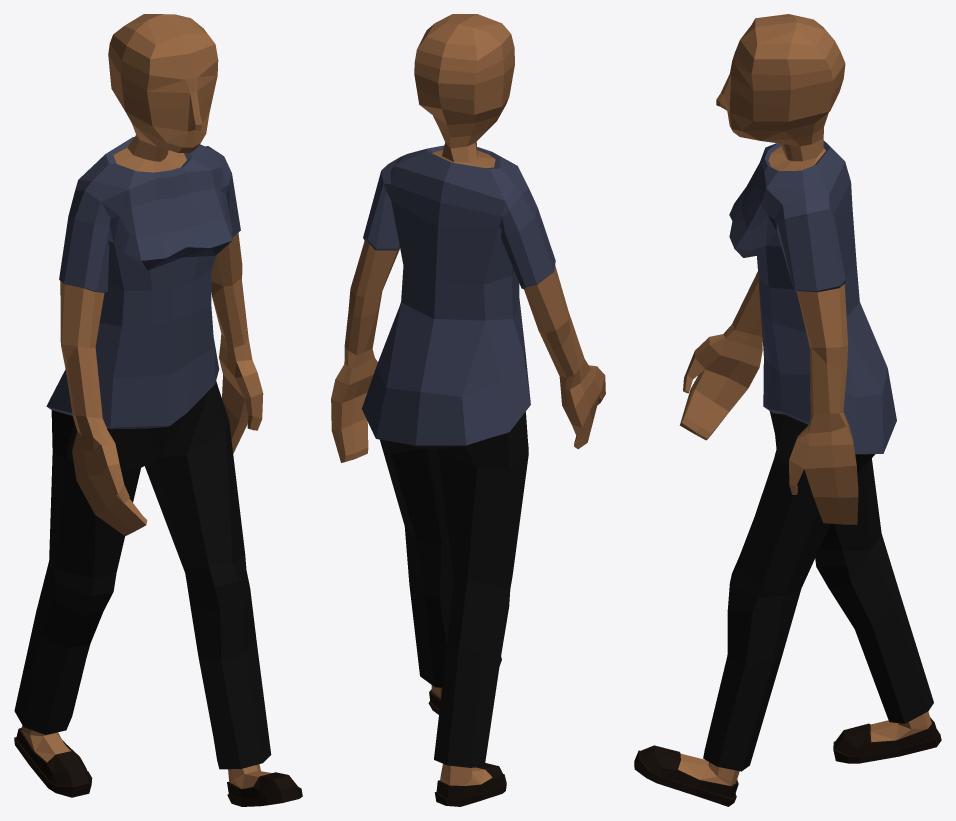
The model's file is Female_Walking.obj.
3 views of the same model, side by side, from view 1: azimuth 30°, elevation 25°; view 2: azimuth 150°, elevation 25°; view 3: azimuth 270°, elevation 25° (orthographic). The views are drawn at different scales.
Visible parts, largest first — view 1: Female_Walking_Cylinder.010; view 2: Female_Walking_Cylinder.010; view 3: Female_Walking_Cylinder.010.
Part boxes in pixels (left/top/right/bottom): Female_Walking_Cylinder.010: left=14, top=14, right=302, bottom=806; Female_Walking_Cylinder.010: left=331, top=14, right=605, bottom=806; Female_Walking_Cylinder.010: left=634, top=14, right=941, bottom=806.
Bounding box in the file's own units: 1.06 × 3.71 × 1.35.
